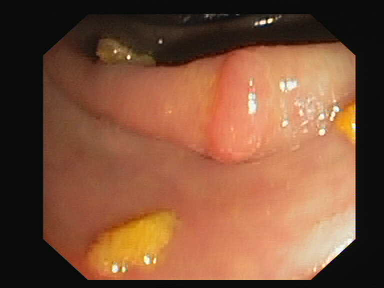polyp: (181, 45, 302, 168), (71, 195, 196, 280), (95, 31, 161, 85), (323, 93, 358, 152)
